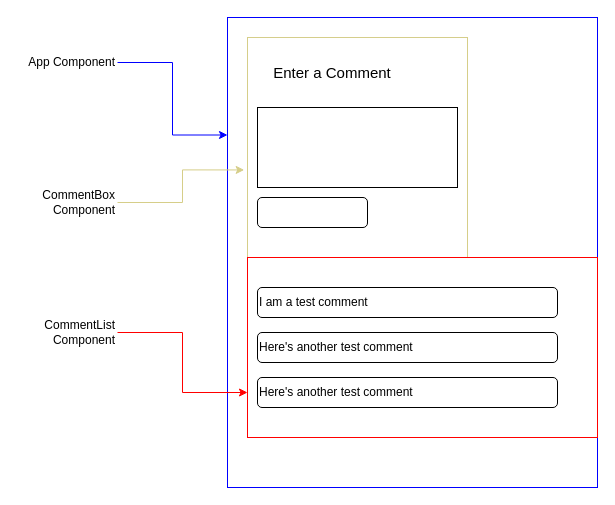
Some shapes in this 615 by 505 pixel diagram are drawn without their labels. Each missing label, with the box of its shape:
Here is my content: (256, 106, 458, 188)
Submit: (256, 196, 368, 228)
